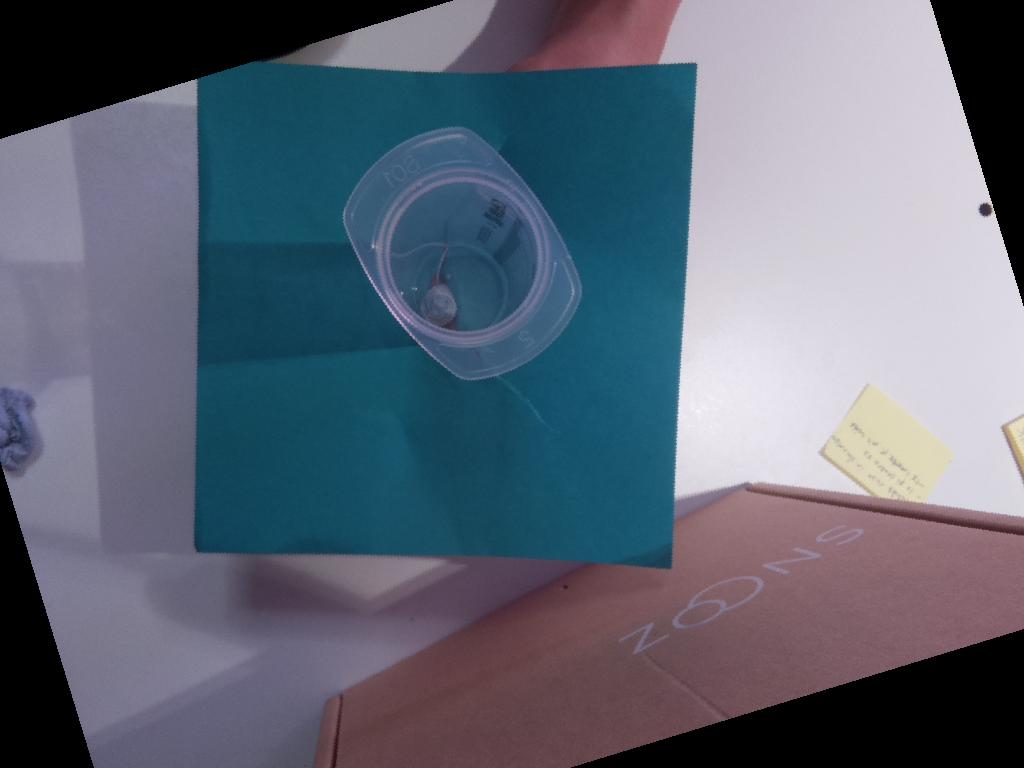clean: (339, 125, 581, 379)
